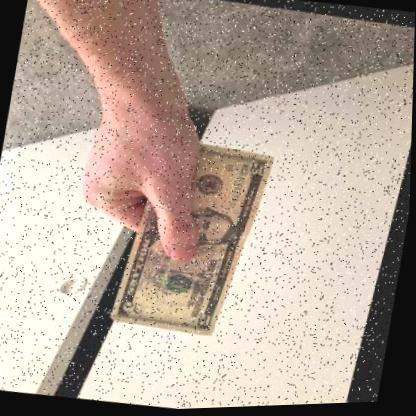five-front: (118, 130, 280, 342)
